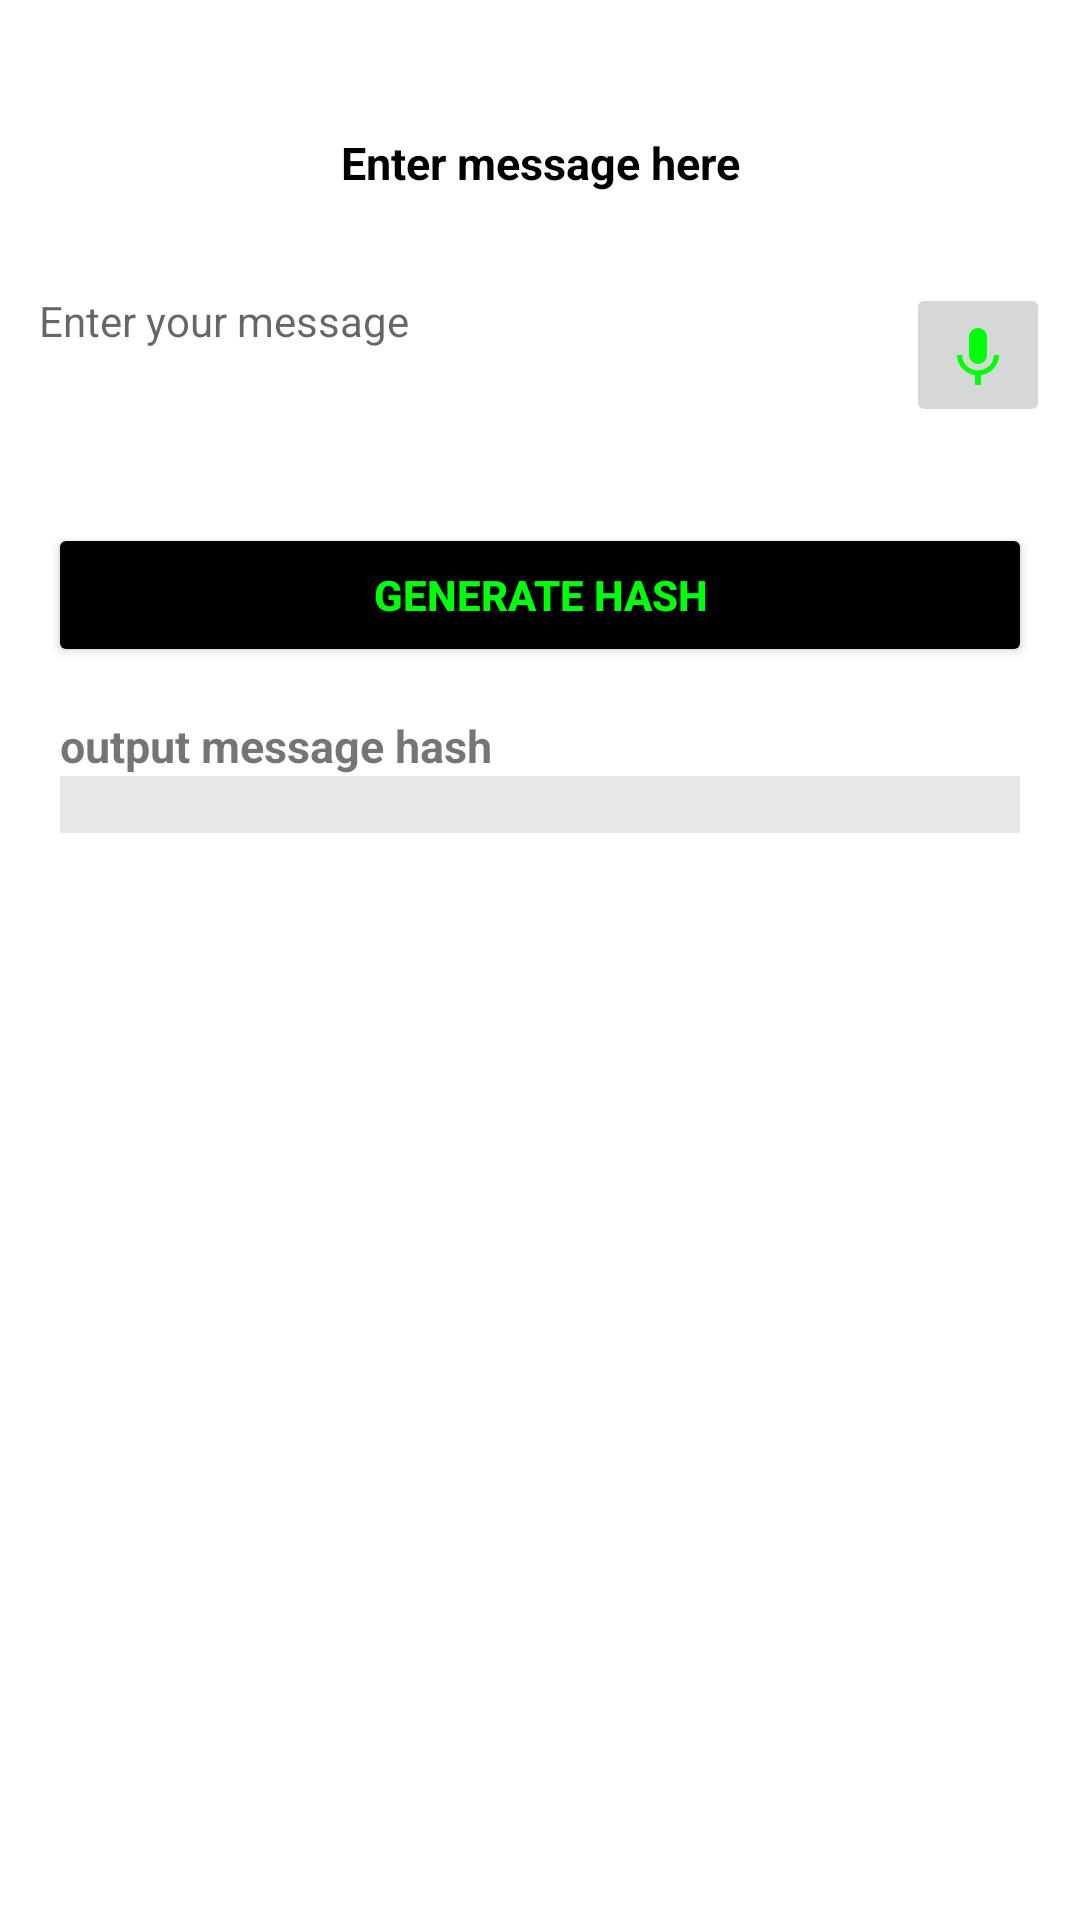

Where icons sit on this 1080px x 1920px app screen, as bbox=(x1, y1, x2, y2):
keyboard voice: bbox=(918, 301, 1038, 409)
